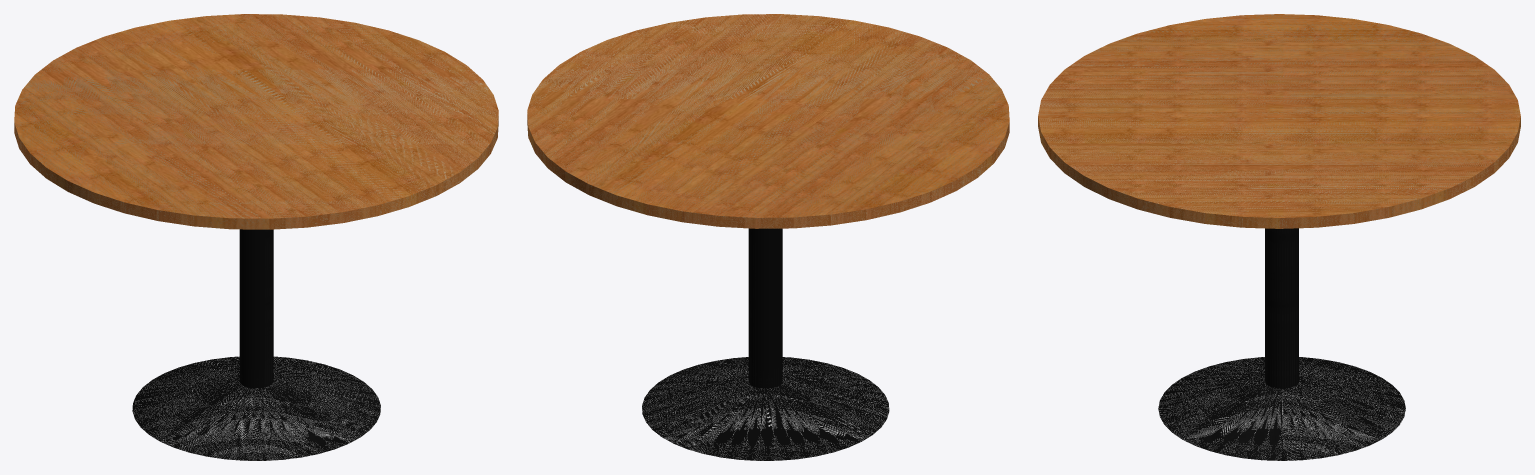
The model's file is round_table.dae.
3 renders of one model, left to right at view 1: azimuth 30°, elevation 25°; view 2: azimuth 150°, elevation 25°; view 3: azimuth 270°, elevation 25°, orthographic.
Visible parts, largest first — view 1: group_1, Agrupar_9, Agrupar_8; view 2: group_1, Agrupar_9, Agrupar_8; view 3: group_1, Agrupar_9, Agrupar_8.
Boxes of the visible parts, x1=… form: group_1: x1=14, y1=14, x2=498, y2=229; Agrupar_9: x1=132, y1=356, x2=380, y2=460; Agrupar_8: x1=239, y1=229, x2=273, y2=388; group_1: x1=527, y1=14, x2=1009, y2=228; Agrupar_9: x1=642, y1=357, x2=889, y2=460; Agrupar_8: x1=748, y1=228, x2=782, y2=388; group_1: x1=1038, y1=14, x2=1520, y2=228; Agrupar_9: x1=1158, y1=357, x2=1405, y2=460; Agrupar_8: x1=1265, y1=228, x2=1298, y2=388.
Bounding box in the file's own units: 42.99 × 42.99 × 28.68.
Materials: 5 (4 with a texture image).
